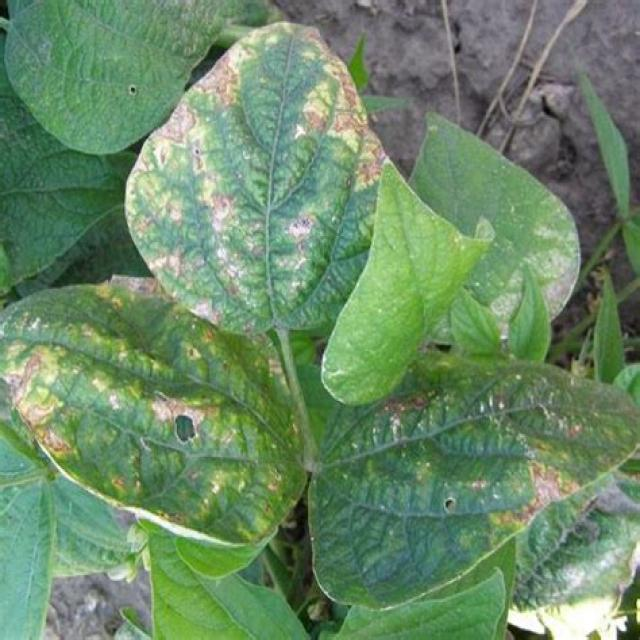blight: (300, 42, 381, 202), (149, 60, 246, 162), (4, 342, 70, 470)
